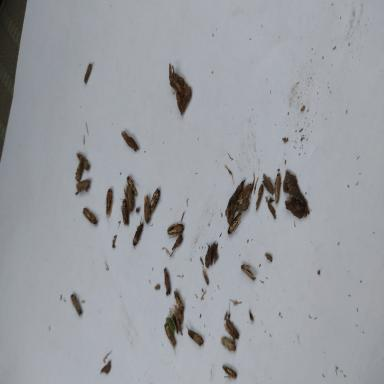pbw: (164, 322, 179, 356), (186, 322, 204, 348), (132, 214, 144, 251), (121, 128, 139, 152), (69, 294, 85, 316), (284, 200, 302, 219), (236, 183, 253, 203), (224, 319, 240, 340), (227, 213, 242, 235), (150, 188, 162, 214), (82, 207, 99, 225), (166, 222, 185, 238), (123, 185, 134, 212), (170, 235, 184, 256), (104, 187, 112, 223), (76, 152, 90, 172), (173, 288, 184, 313), (221, 334, 236, 352), (263, 173, 274, 197), (274, 172, 282, 205), (120, 197, 129, 226), (240, 264, 256, 280), (126, 175, 138, 196), (222, 364, 238, 378), (163, 267, 171, 295), (76, 178, 91, 192), (255, 184, 263, 210), (170, 312, 179, 334), (75, 158, 83, 182), (144, 194, 150, 224), (236, 200, 249, 213), (84, 63, 92, 84), (202, 267, 210, 286)
